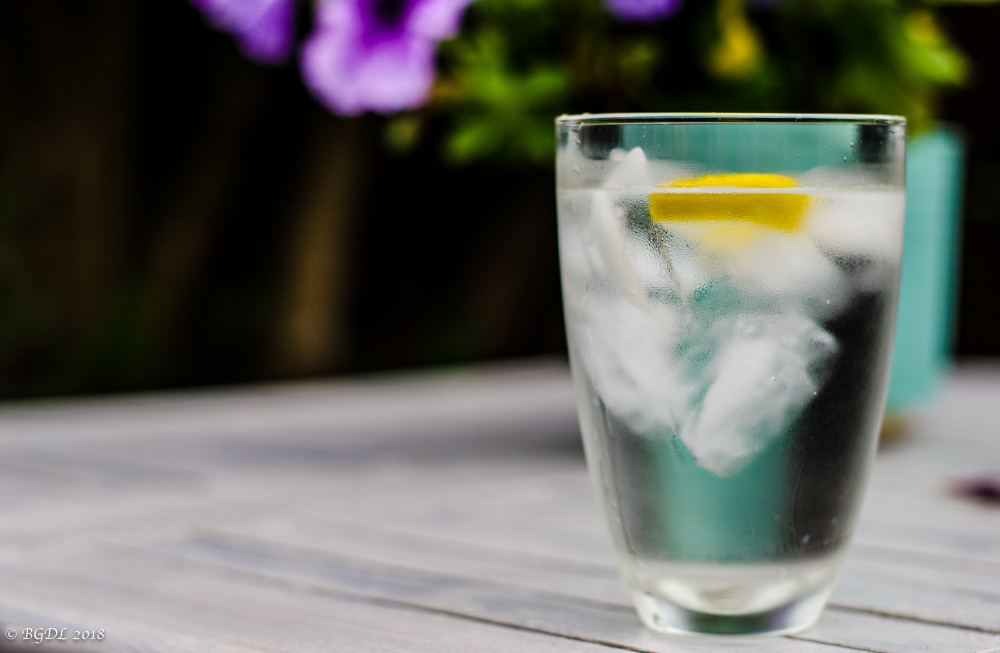glass of water: (536, 93, 913, 631)
